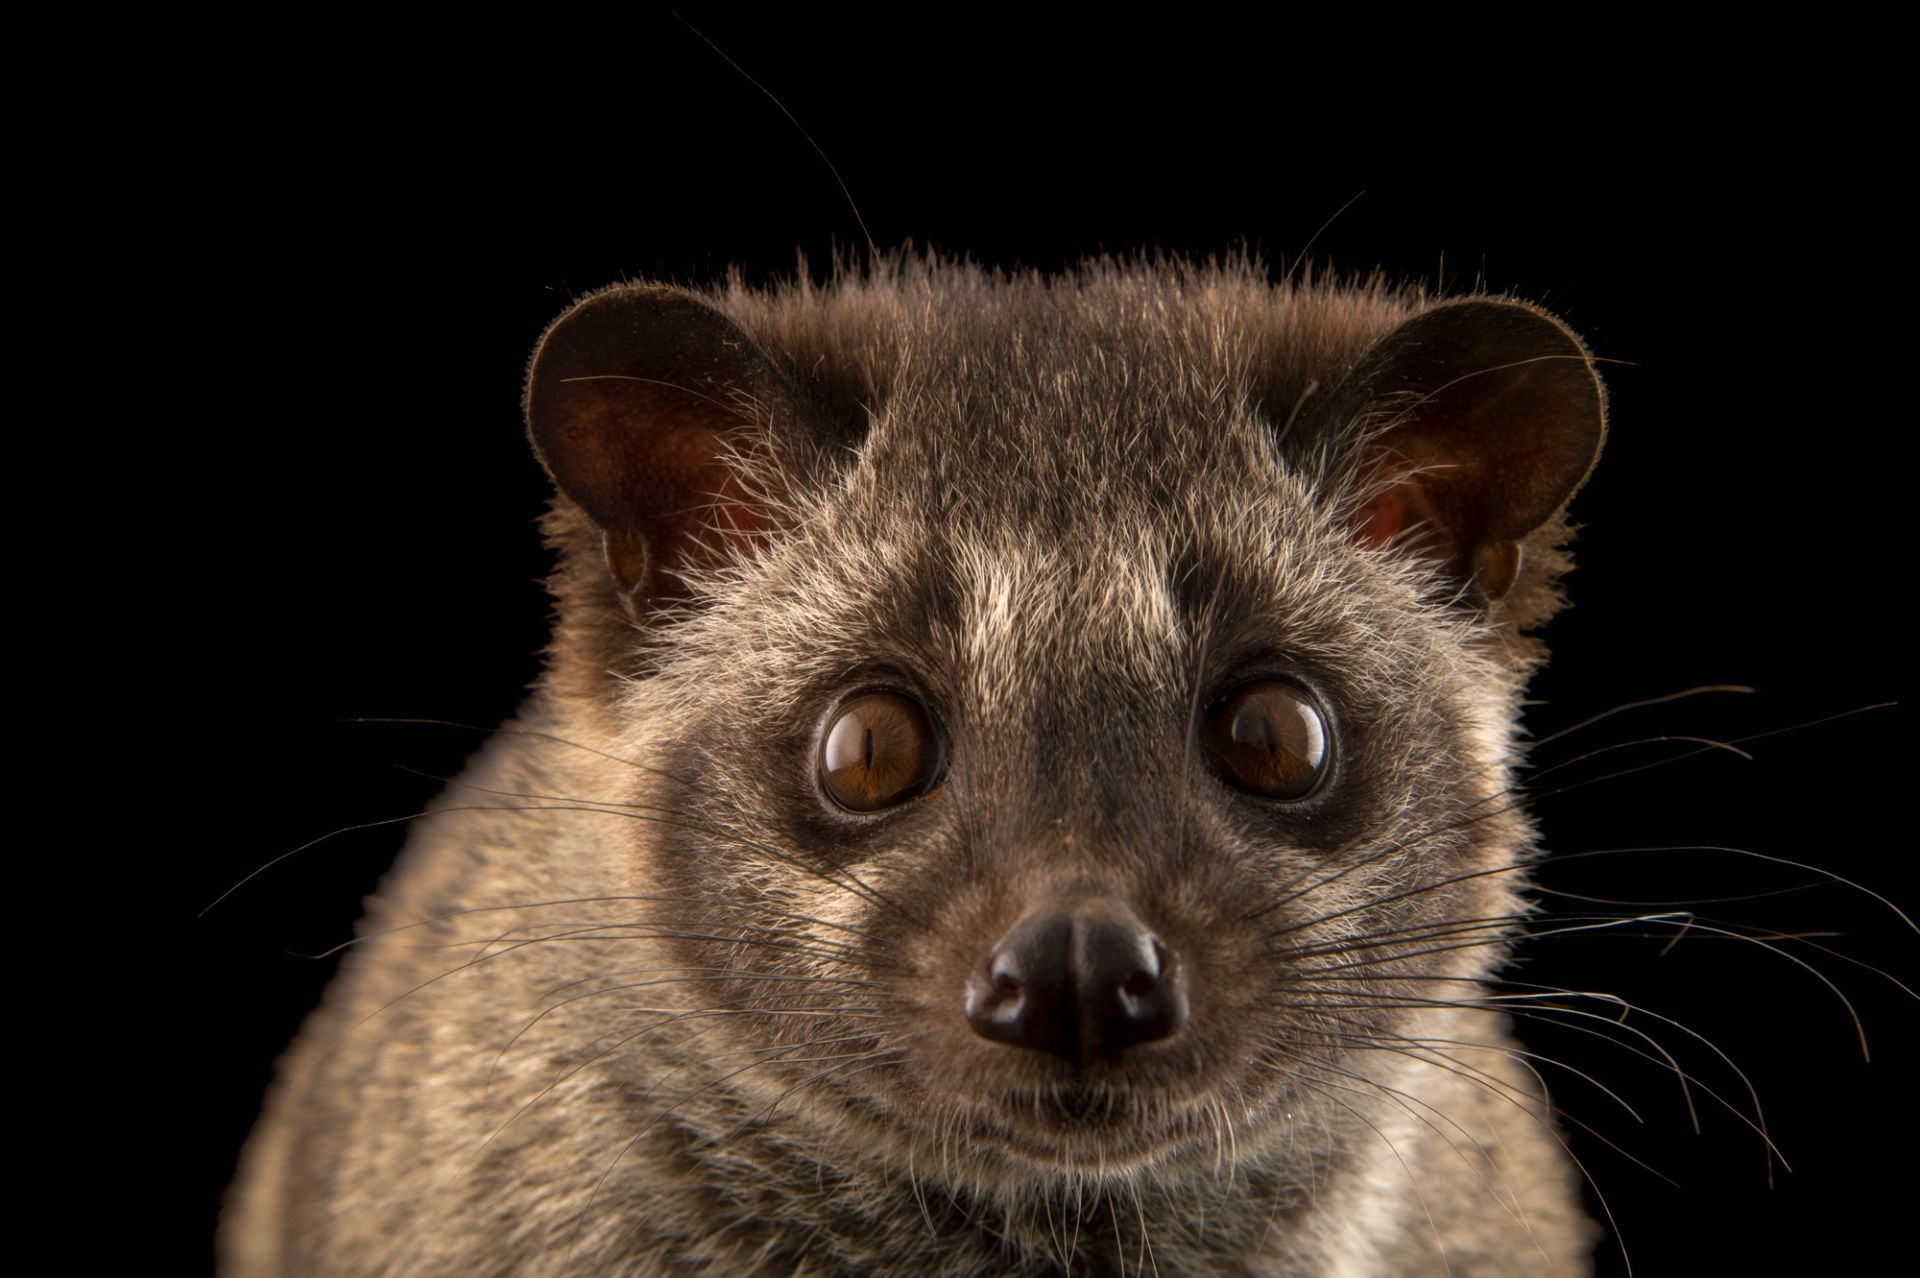Civet: (454, 210, 1659, 1210)
